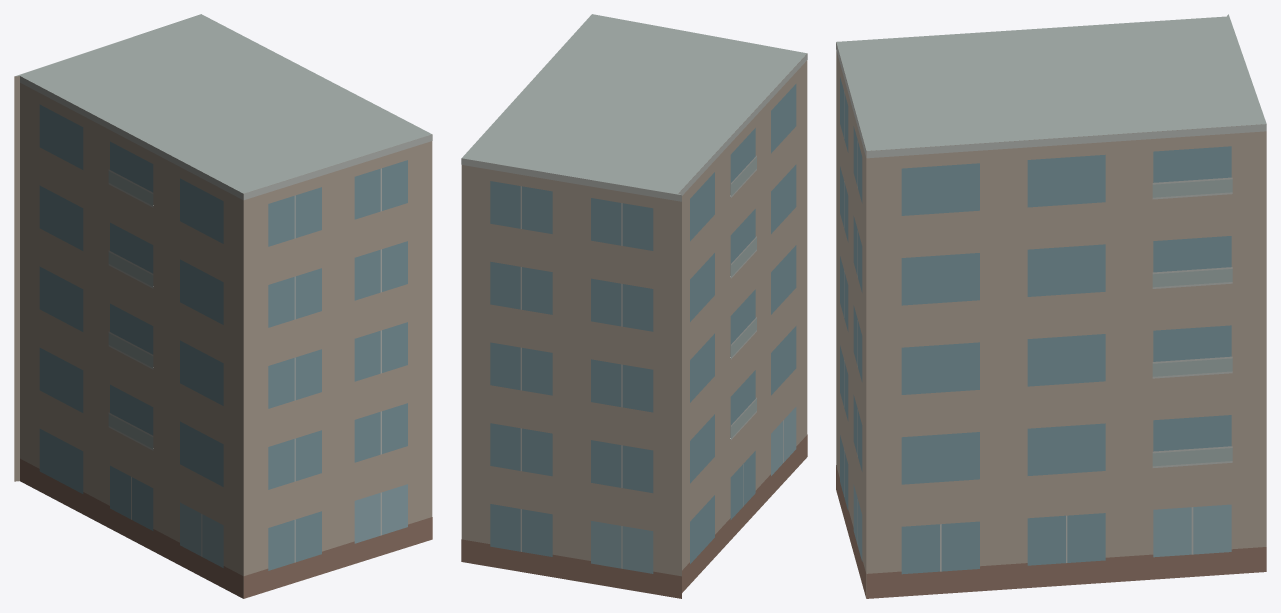
File: survey-upis-32746525.glb
3 views of the same model, side by side, from view 1: azimuth 30°, elevation 25°; view 2: azimuth 150°, elevation 25°; view 3: azimuth 270°, elevation 25° (orthographic). The views are drawn at different scales.
Visible parts, largest first — view 1: survey-upis-32746525.tmp; view 2: survey-upis-32746525.tmp; view 3: survey-upis-32746525.tmp.
Boxes of the visible parts, x1,y1,x2,y2 form: survey-upis-32746525.tmp: (14,14,432,598); survey-upis-32746525.tmp: (461,14,807,598); survey-upis-32746525.tmp: (836,14,1266,598).
Size of the model in its own units: 9.86 by 15 by 13.08.
